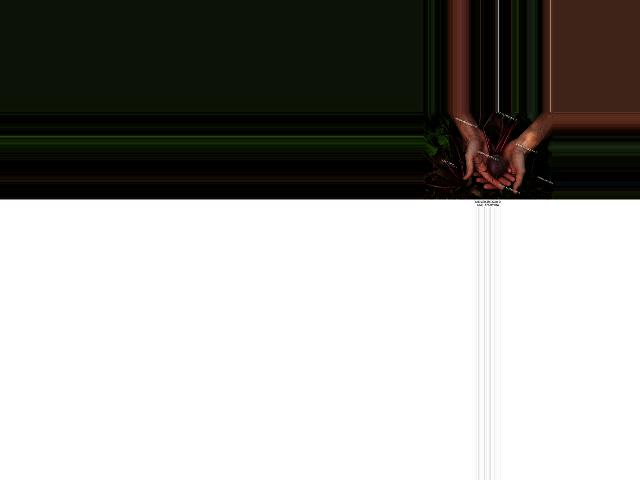beet: (481, 114, 520, 179)
